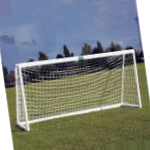goals: (12, 48, 144, 132)
